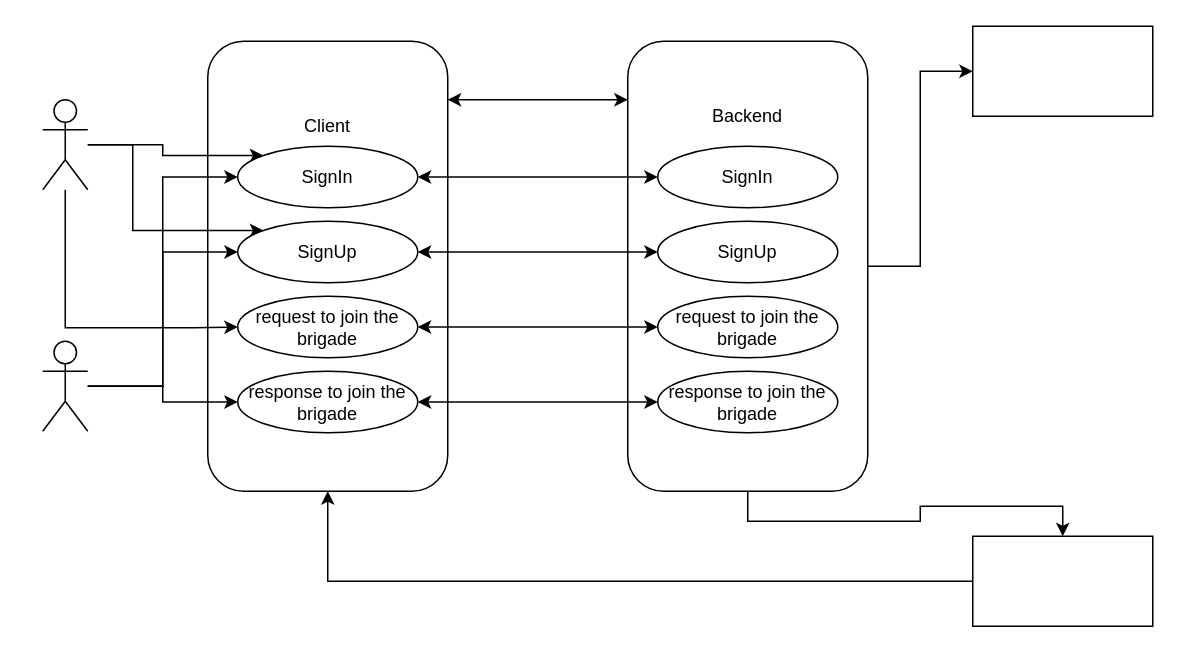
Some shapes in this 1179 by 653 pixel diagram are drawn without their labels. The centre of each missing label's shape, as x and y in pixels:
"Firebase" belongs at pixel 1062 580.
"Postgres" belongs at pixel 1062 70.
"Бригадир" belongs at pixel 64 385.
"Рабочий" belongs at pixel 64 144.
